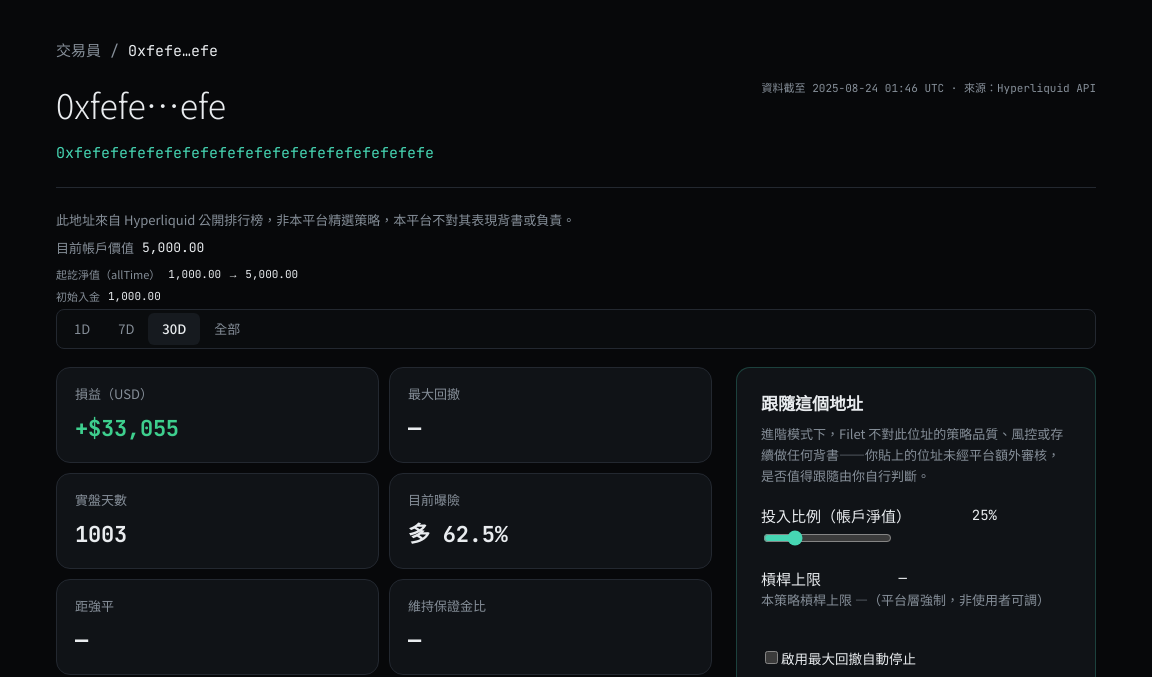
TraderDetailPage › Task 6：四窗切換＋與探索清單同源欄位 › 點「1D」按鈕（非 URL query）→ 損益數字與指標網格切到 metrics.day
Expected: the heading "0xfefe…efe" is shown, [56, 79, 226, 132]
Expected: the text "+$33,055" is shown, [75, 414, 179, 443]
Click the button "1D".
click(82, 329)  # box [60, 313, 104, 345]
(page scrolled)
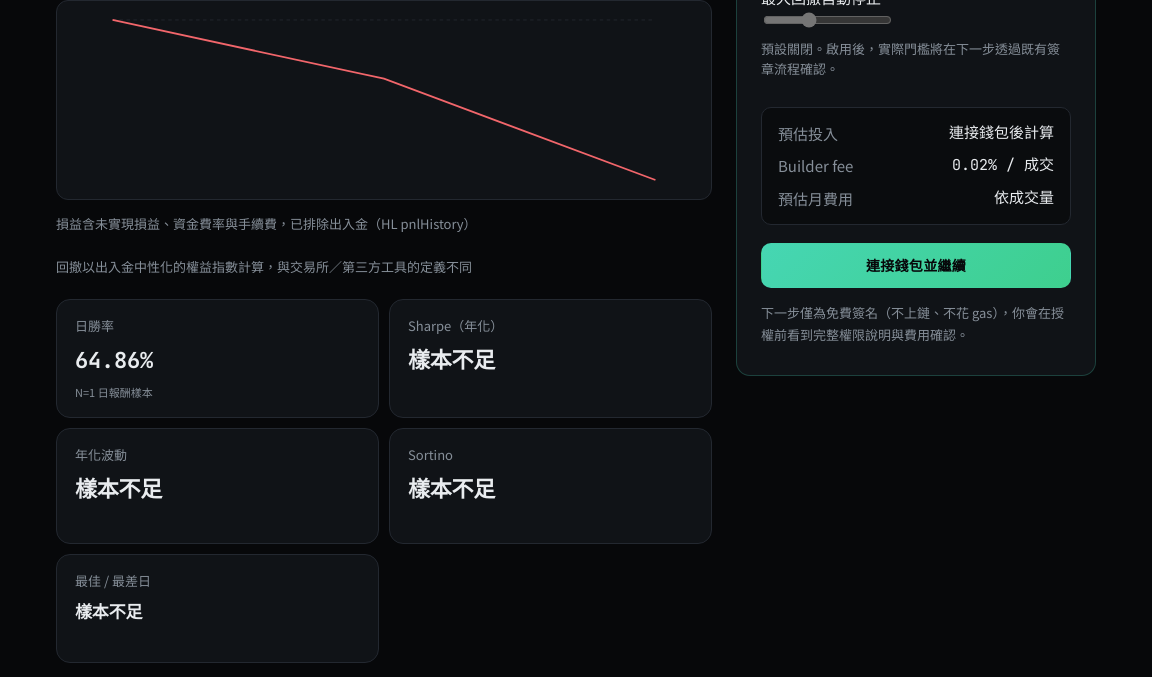
Expected: the text "+$33,055" is gone
Expected: the text "64.86%" is shown, [75, 346, 153, 375]
